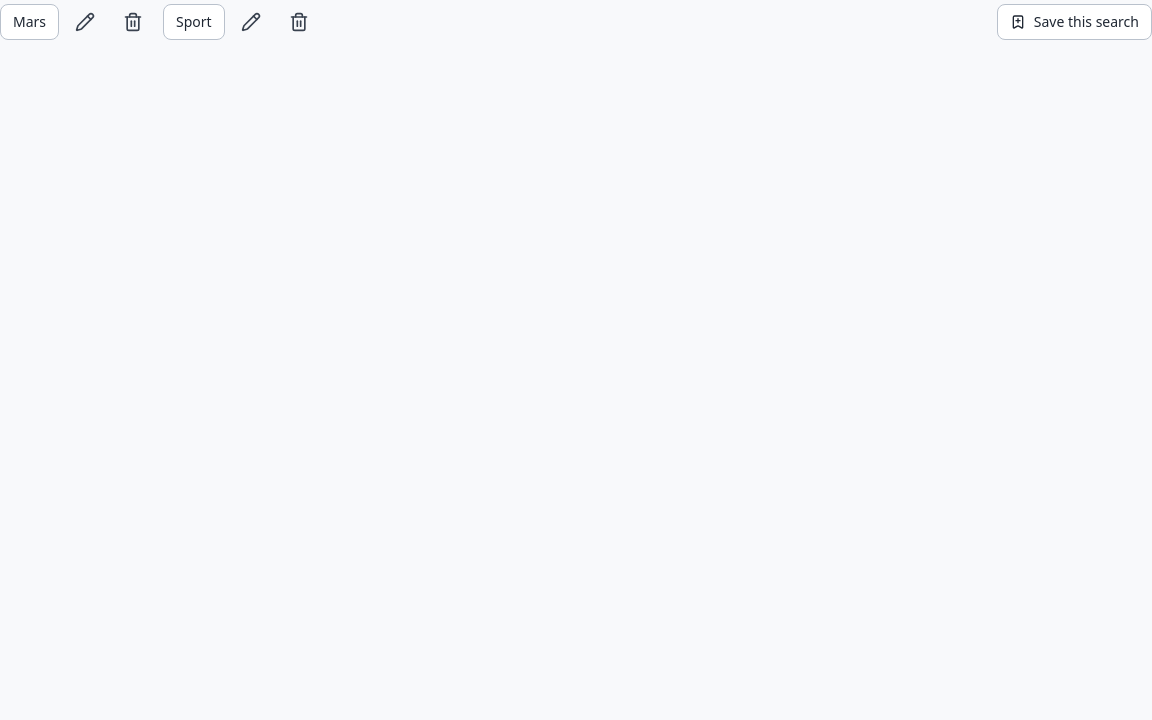
Test case: SavedSearches › deletes the preset on confirm
The image size is (1152, 720).
Click the button named "Delete search: Mars".
click(133, 22)  # box [111,0,155,44]
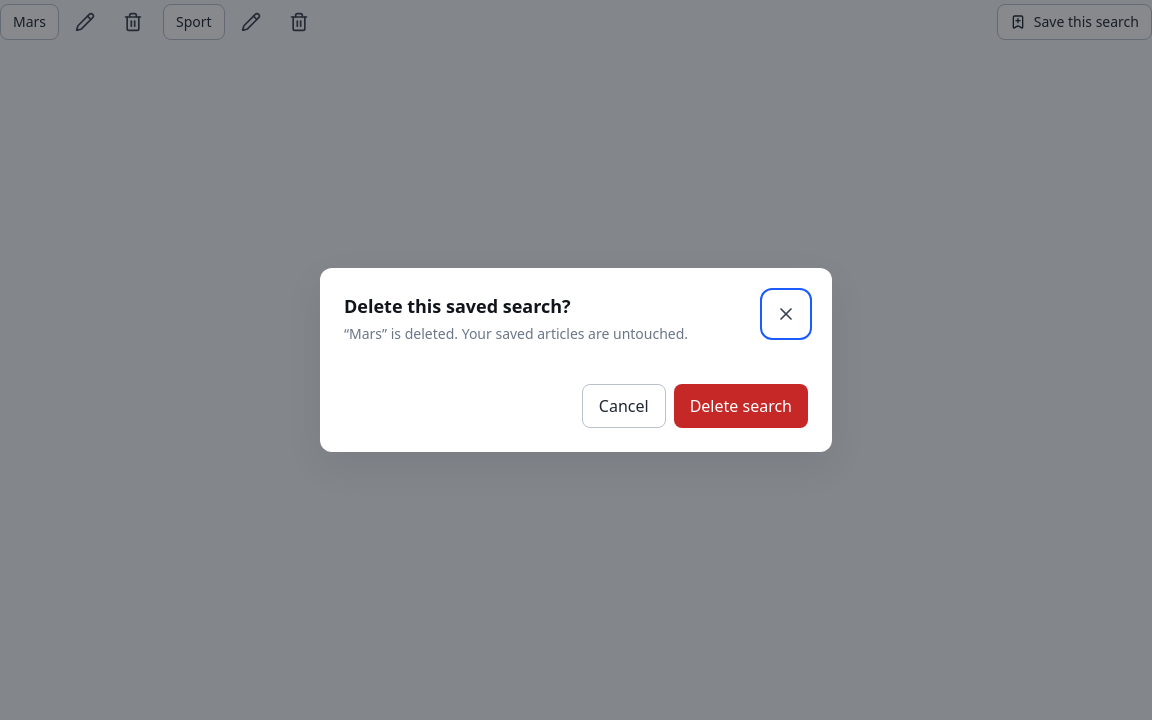
Check: the dialog shows "Mars", box [344,324,688,343]
Click the button "Delete search".
click(741, 406)  # box [674,384,808,428]
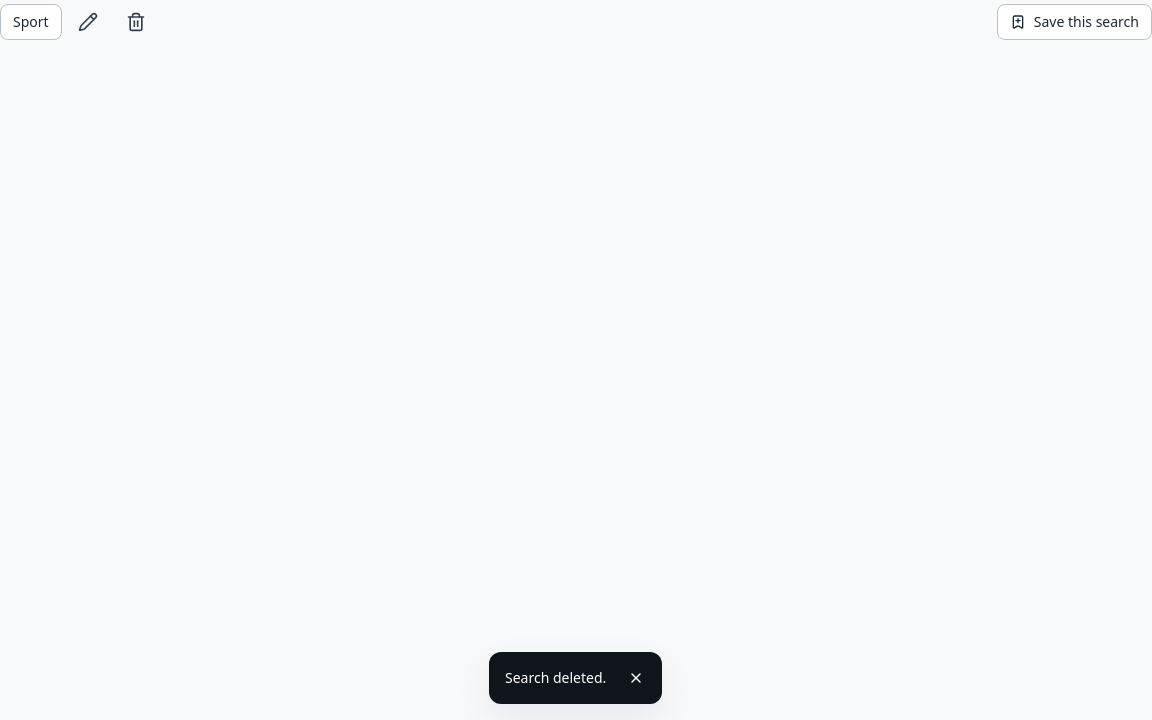
Check: the button "Mars" is gone
Check: the text "Search deleted." is shown, box [505,668,607,688]
